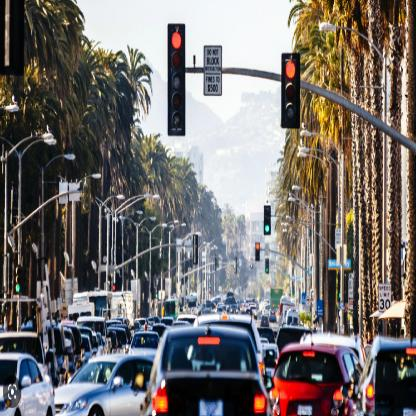red: (168, 24, 186, 136), (281, 53, 300, 128)
